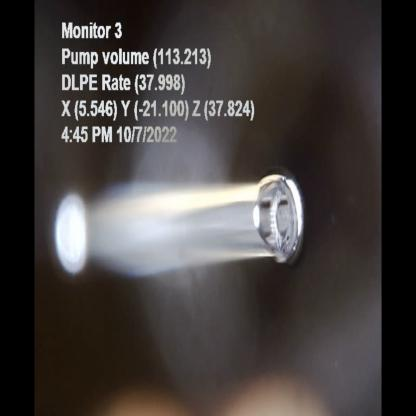Droplet: (253, 176, 306, 267)
